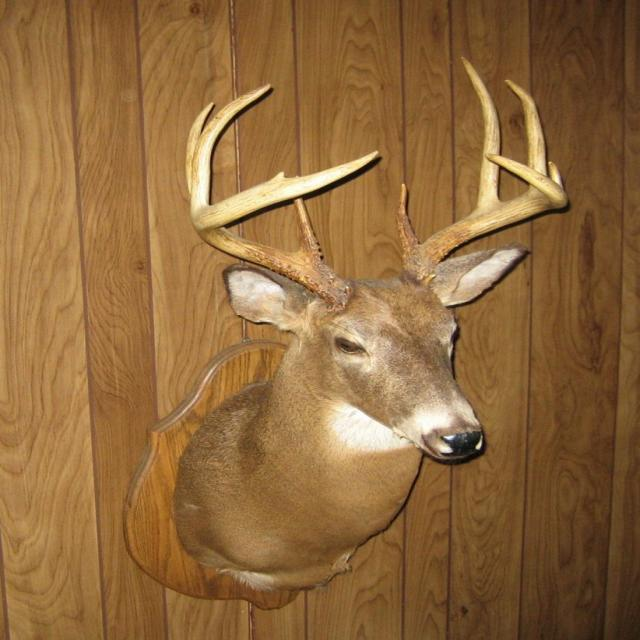Deer: (170, 56, 568, 592)
